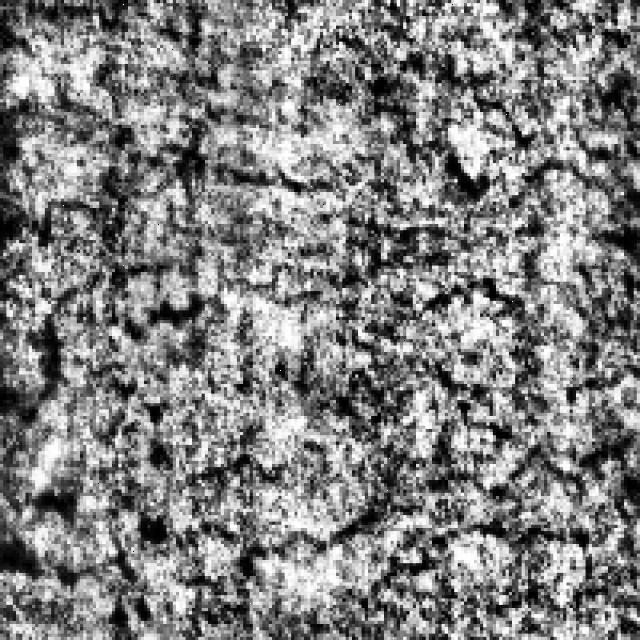Pitted_Surface: (227, 54, 640, 314), (9, 90, 240, 412), (368, 339, 640, 608)
